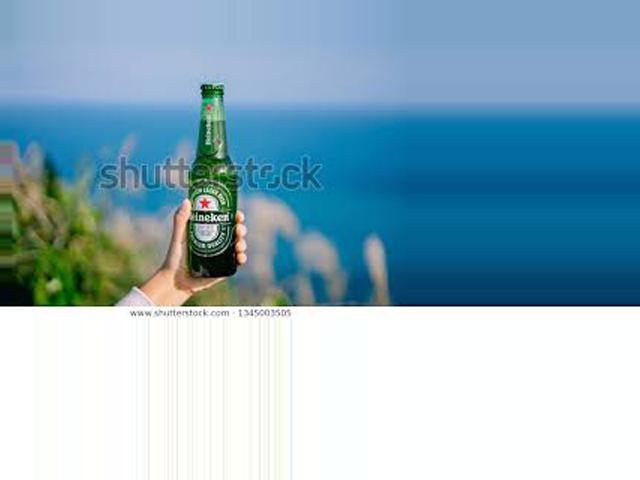beer: (186, 83, 236, 275)
